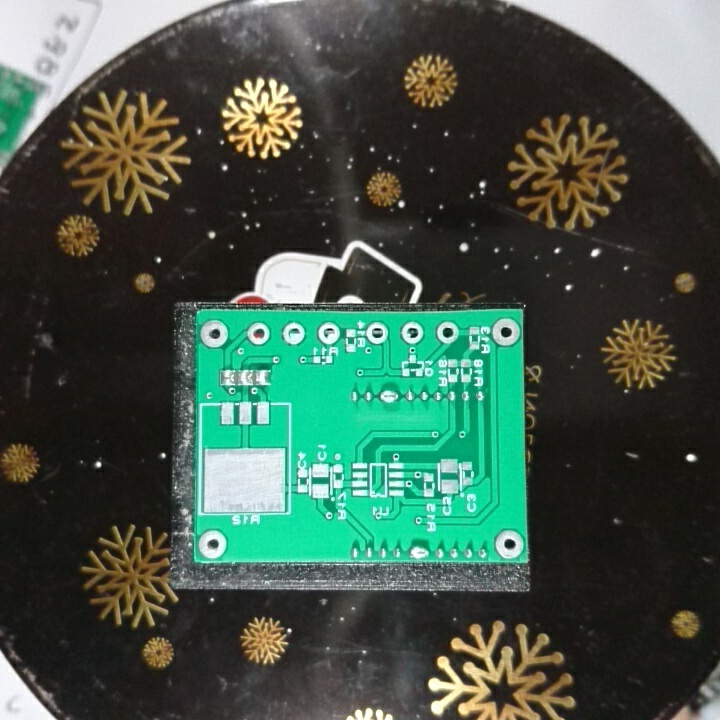F: (195, 530, 229, 562), (494, 528, 525, 562), (489, 317, 521, 348), (197, 319, 228, 348), (244, 321, 273, 347), (314, 320, 342, 346), (280, 321, 308, 346), (399, 320, 425, 346), (364, 320, 390, 345), (435, 321, 460, 344)
P: (377, 387, 401, 406), (406, 546, 431, 561)
